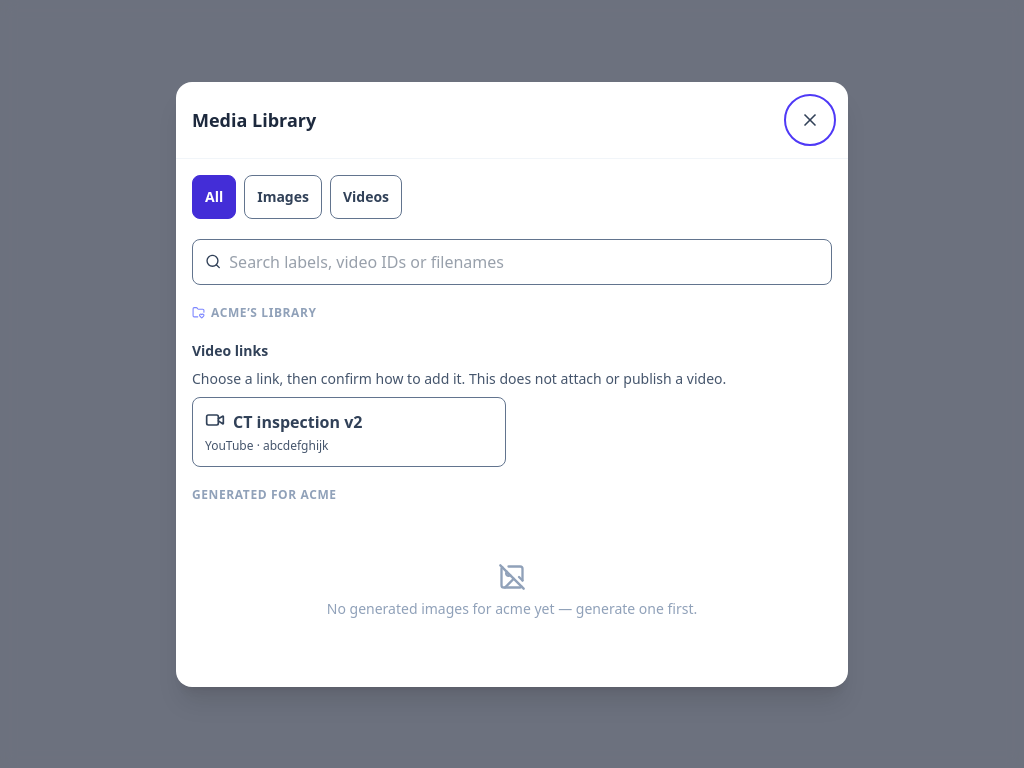
Test: MediaPicker › uses saved labels and searches video IDs without fetching thumbnails
Expected: the button with aria-label "Choose video link: CT inspection v2" is shown, [192, 396, 506, 466]
In the search field named "Search media": (524, 262) [229, 240, 819, 284], type "missing"
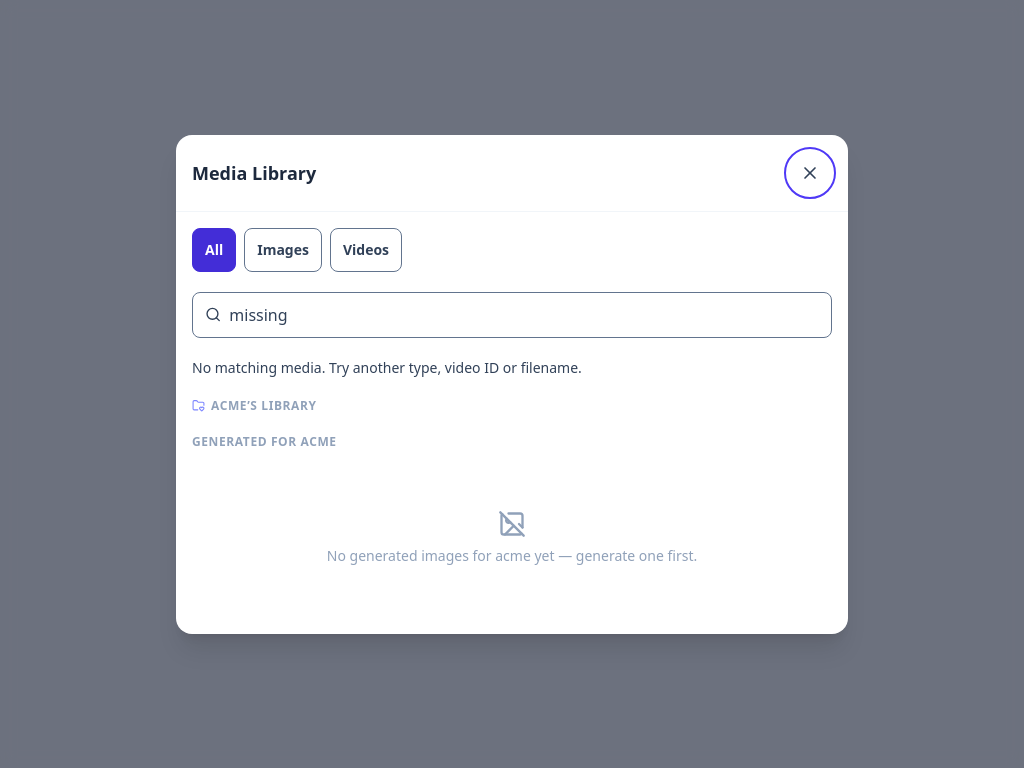
Result: the text "No matching media. Try another type, video ID or filename." is shown at [192, 358, 582, 376]
Replace the text in the search field with "ABCDEFGHIJK": (524, 314) [229, 292, 819, 336]
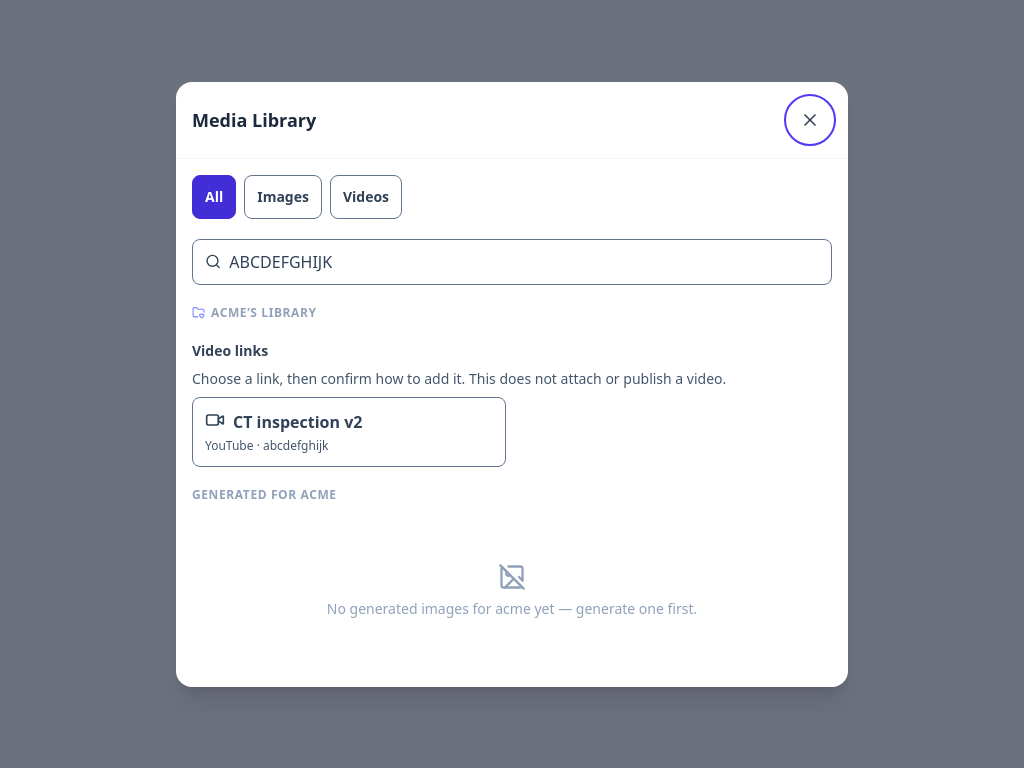
Result: the button with aria-label "Choose video link: CT inspection v2" is shown at [192, 396, 506, 466]
